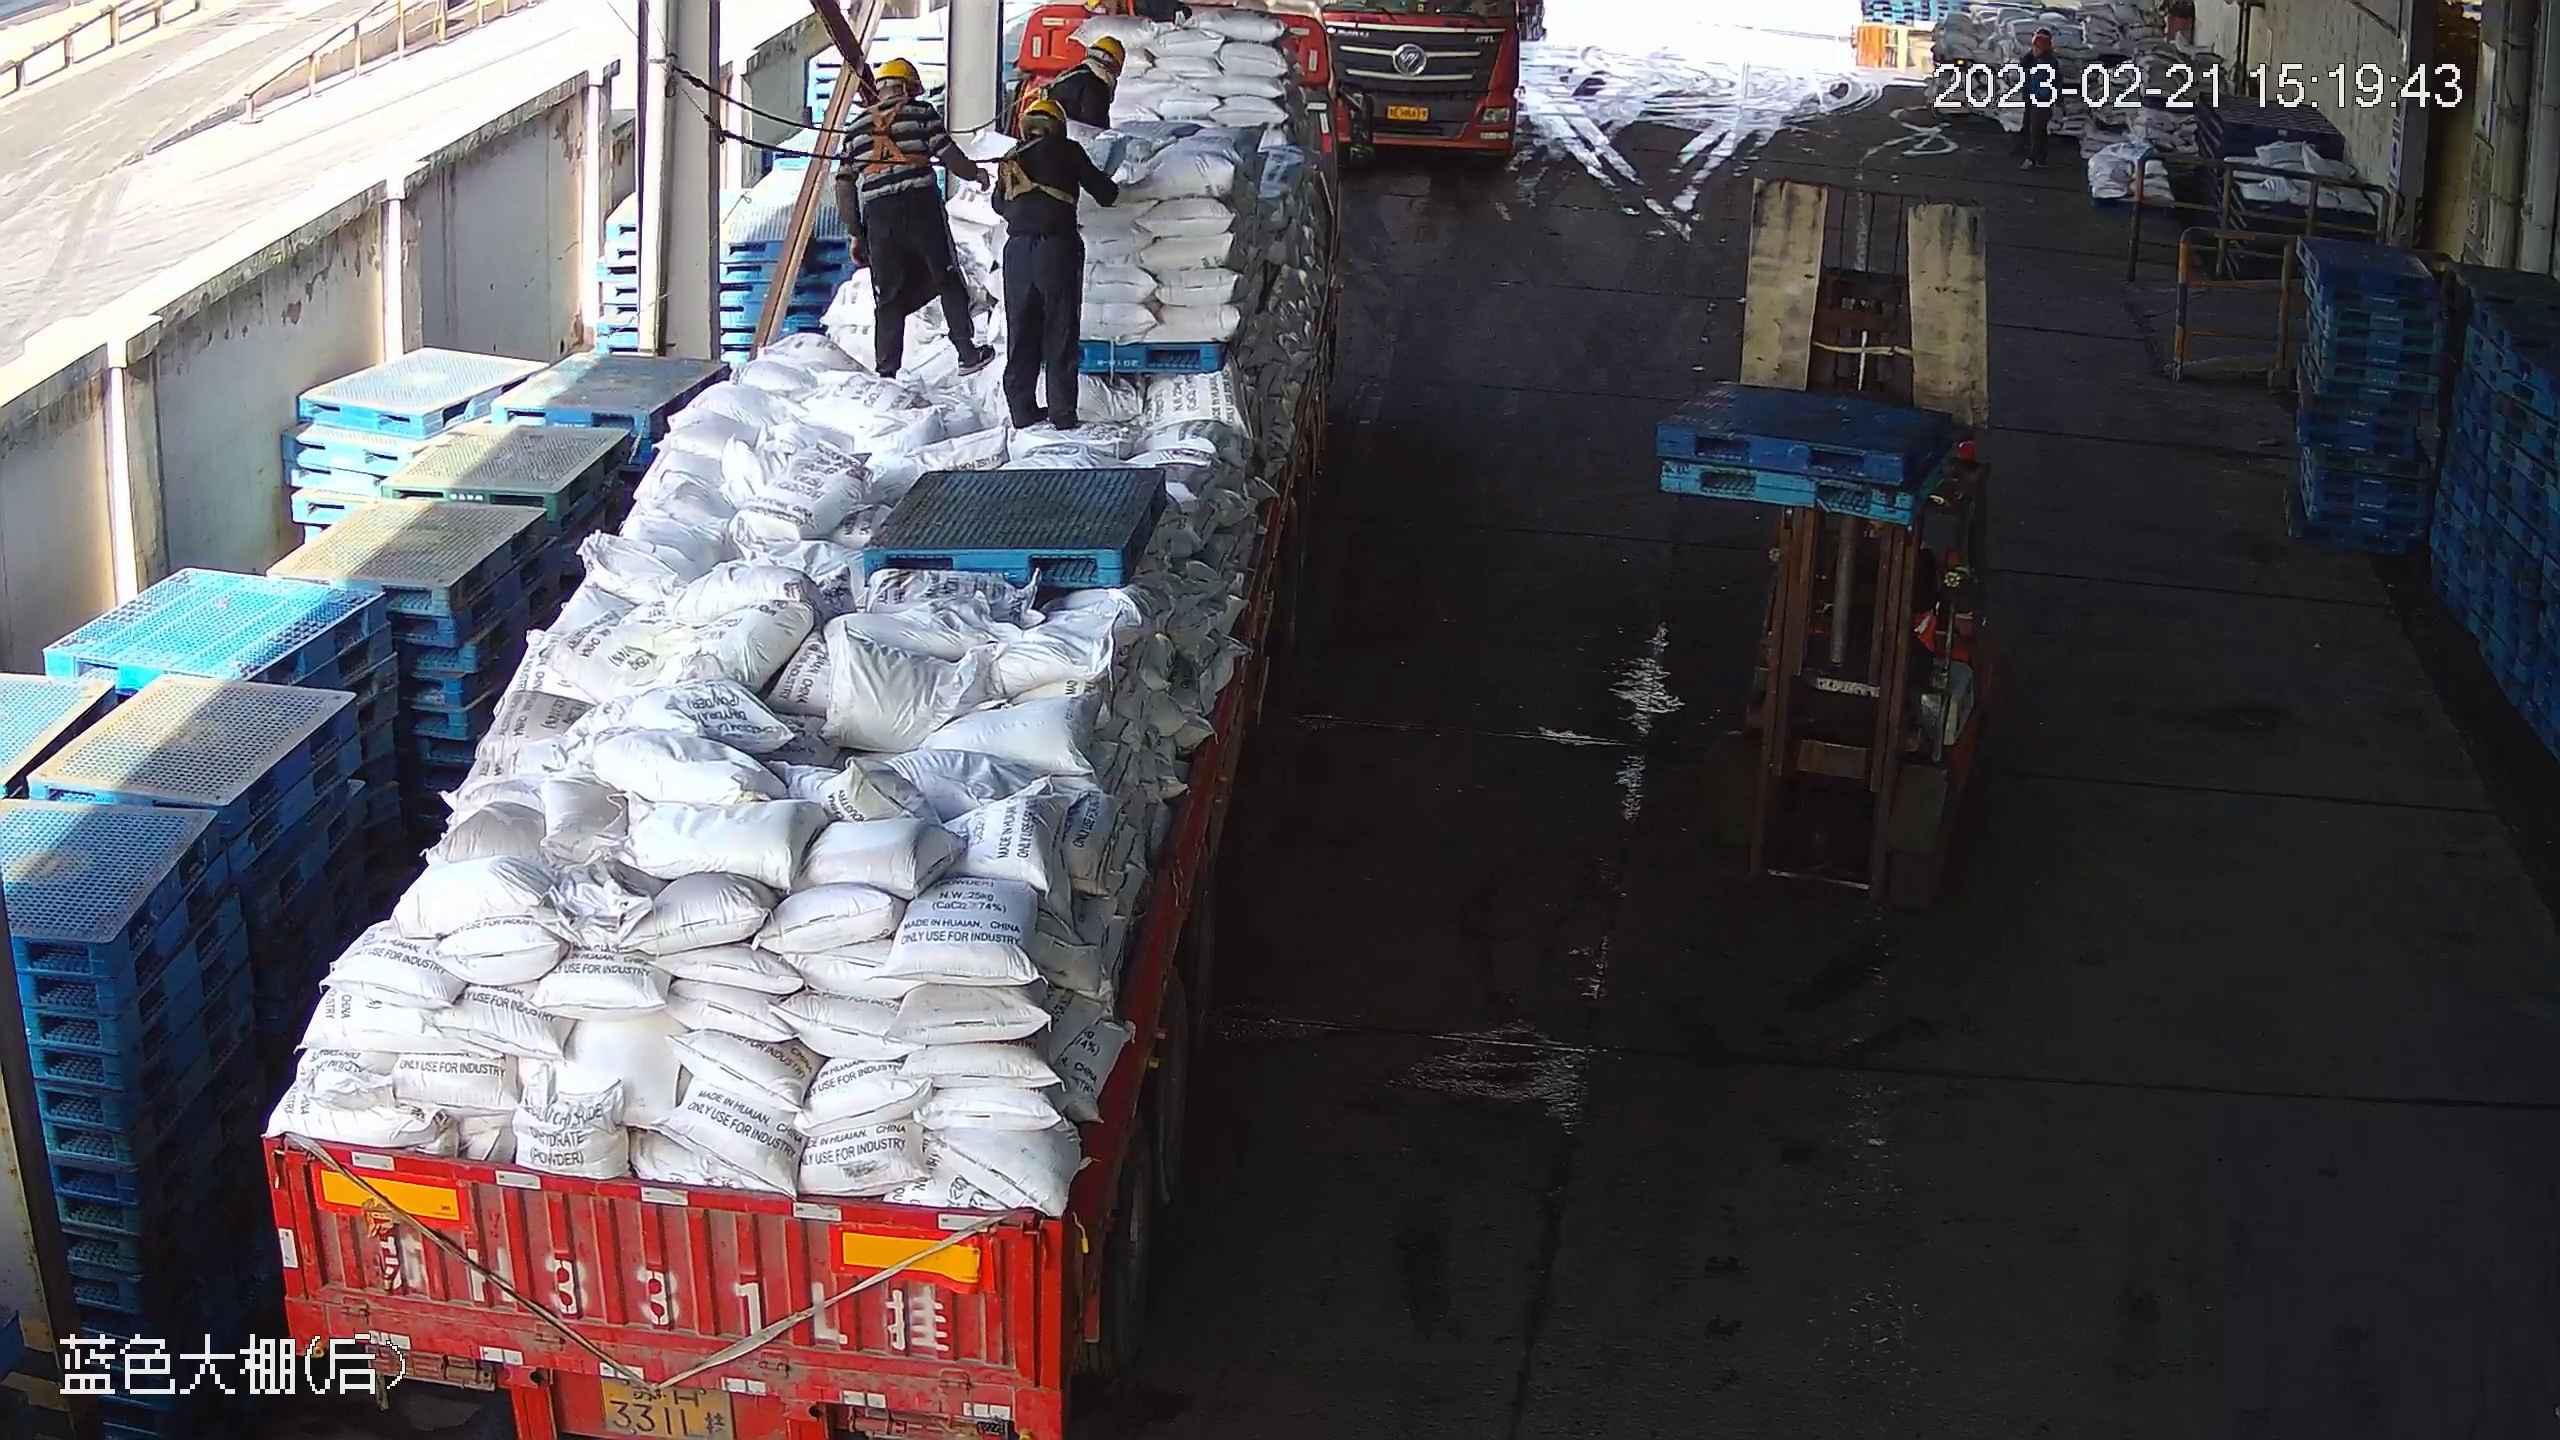belt: (993, 150, 1076, 209), (867, 99, 911, 166), (1050, 62, 1110, 86)
head: (850, 55, 945, 139), (990, 93, 1087, 173), (1045, 36, 1120, 106)
helmet: (1012, 97, 1077, 136), (1083, 25, 1131, 64), (872, 54, 918, 82)
people: (831, 49, 994, 375), (985, 97, 1103, 425)
truck: (266, 4, 1333, 1440), (1321, 1, 1527, 166)
